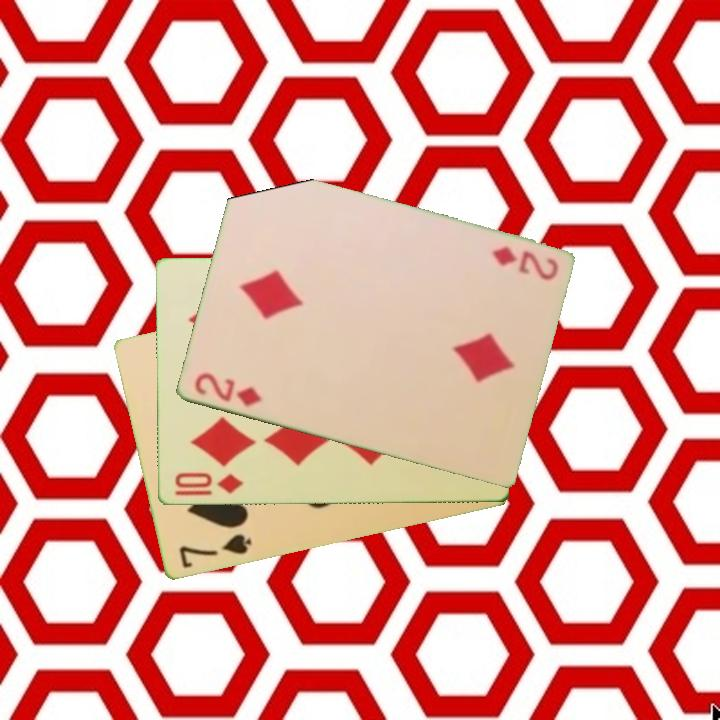10d: (170, 469, 246, 499)
2d: (190, 369, 264, 410), (488, 242, 561, 283)
7s: (175, 531, 254, 572)
